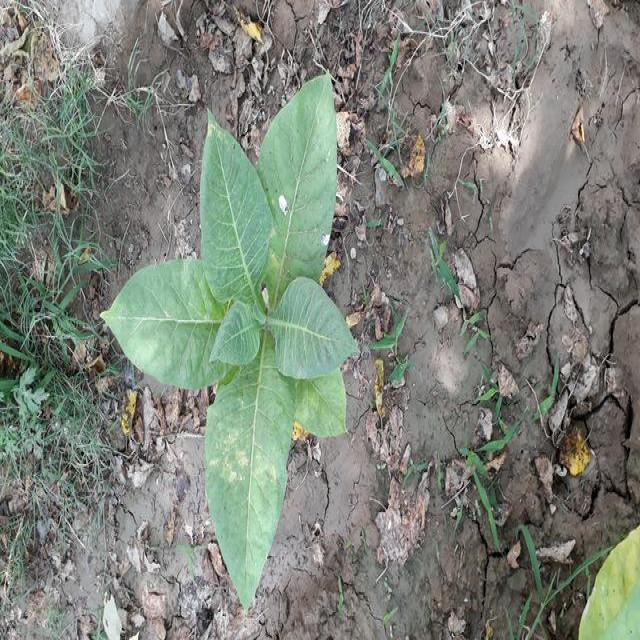crop: (98, 70, 359, 617)
